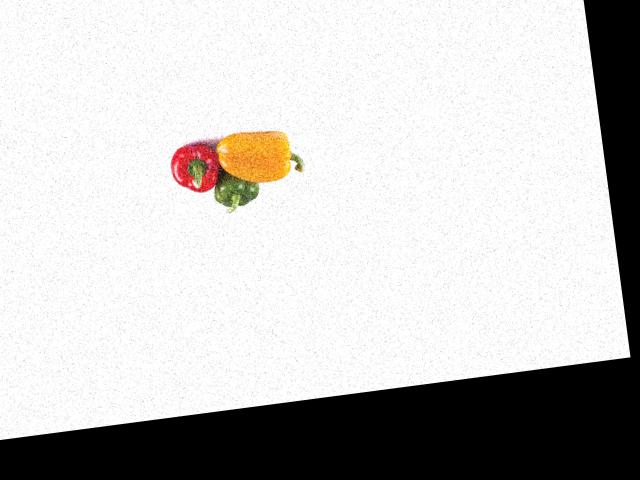bell_pepper: (206, 162, 266, 215)
